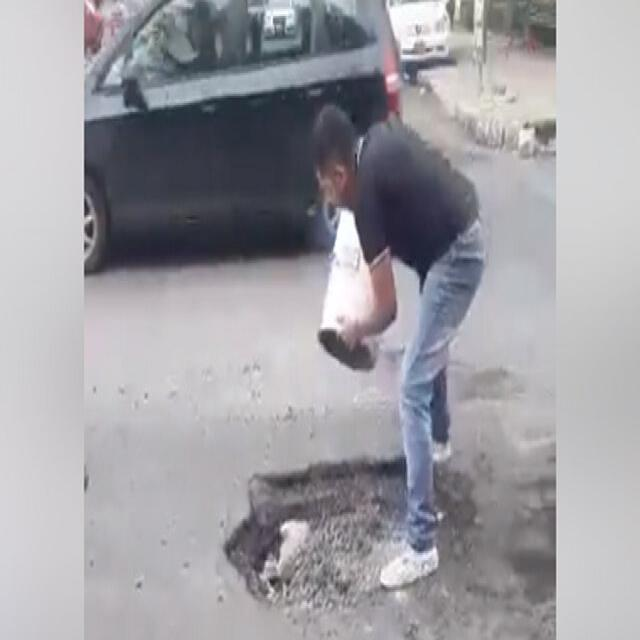Pothole: (197, 419, 504, 640)
